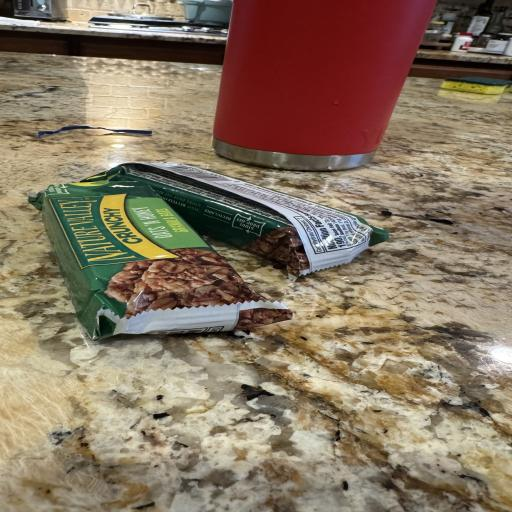granola: (29, 181, 291, 339), (86, 163, 388, 278)
